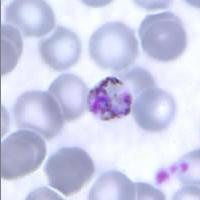Infected: (85, 76, 132, 121)
Uninfected: (14, 89, 64, 140), (88, 23, 139, 70), (46, 149, 92, 197), (49, 73, 88, 120), (5, 0, 53, 36), (143, 21, 187, 60), (135, 88, 175, 130), (6, 129, 44, 172), (41, 30, 79, 70), (88, 171, 135, 200), (1, 139, 32, 181), (140, 10, 179, 37)
